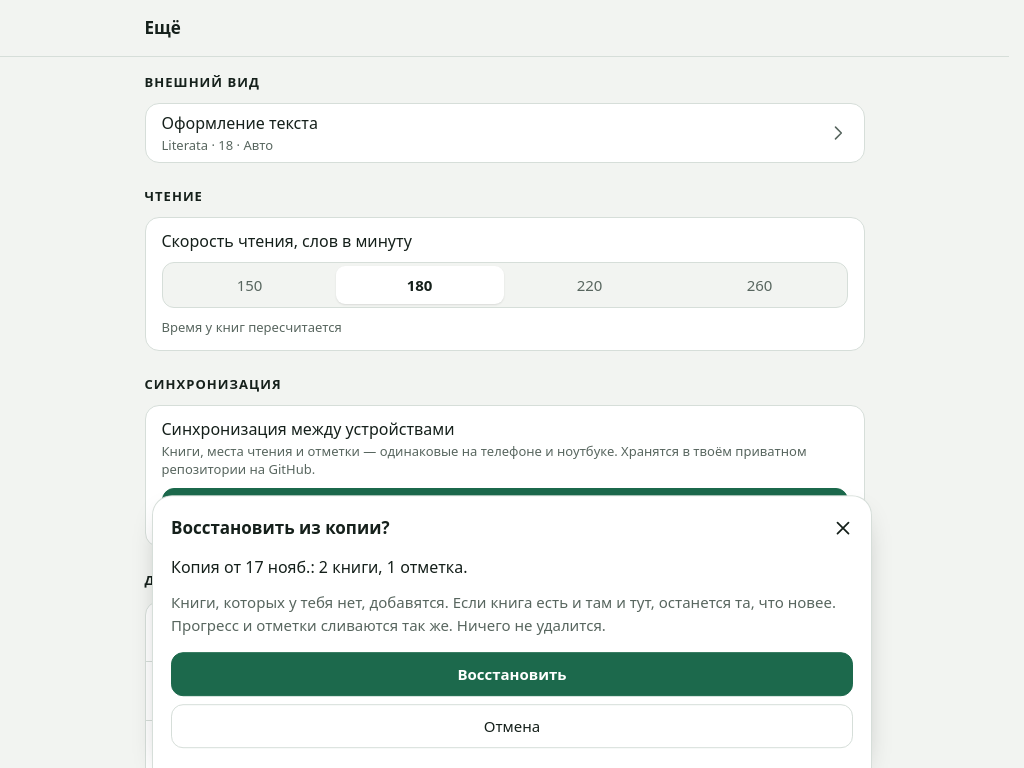
Test case: «Ещё»: восстановление из копии › пока идёт восстановление, кнопки шторки подтверждения заблокированы
Earlier steps of the test are not shown.
Later steps or results of the test are not shown.
(page scrolled)
Check: the dialog with class "sheet" is shown, box left=152, top=495, right=872, bottom=767
Click the button "Восстановить" at [512, 674], box left=171, top=652, right=853, bottom=696
Wait 250 ms
(page scrolled)
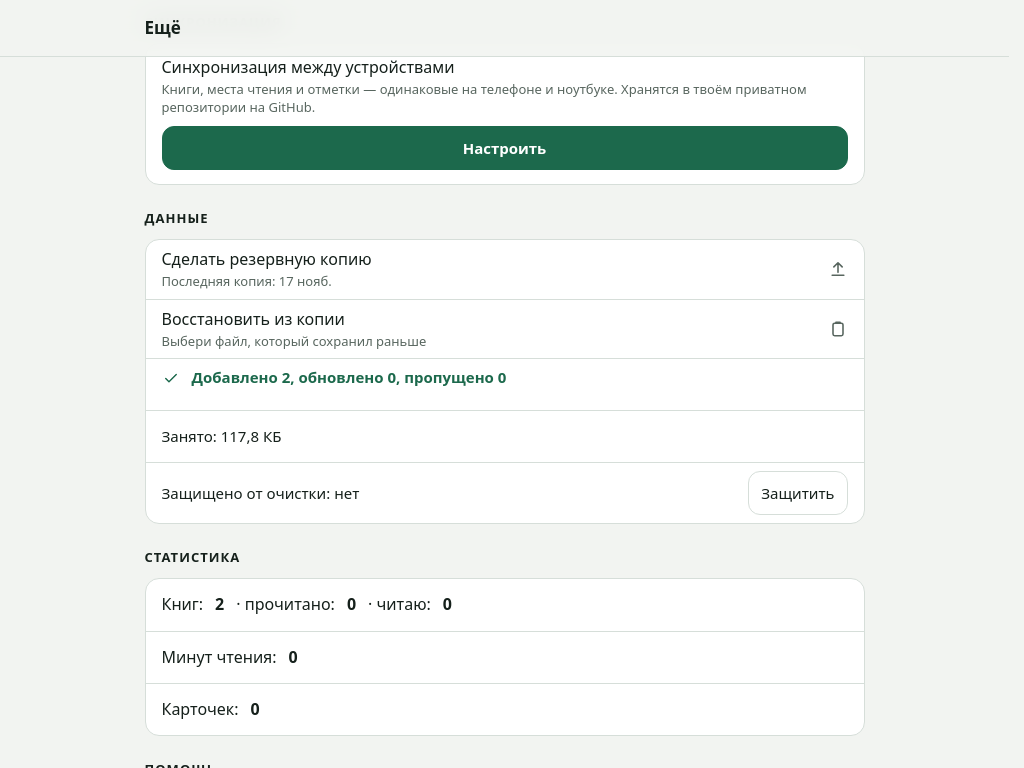
Check: the message "Добавлено 2, обновлено 0, пропущено 0" is shown, box left=146, top=358, right=864, bottom=410
